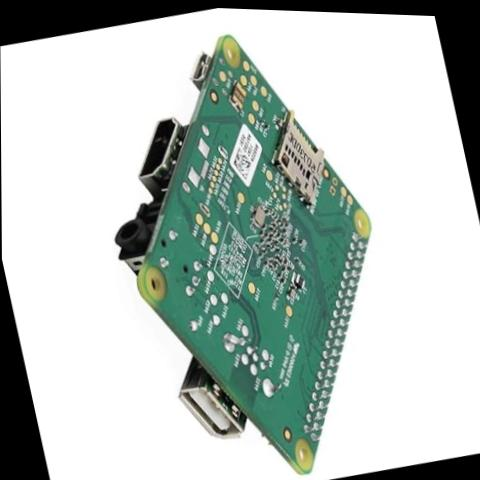Raspberry-Pi-1-Model-A-: (46, 1, 434, 480)
